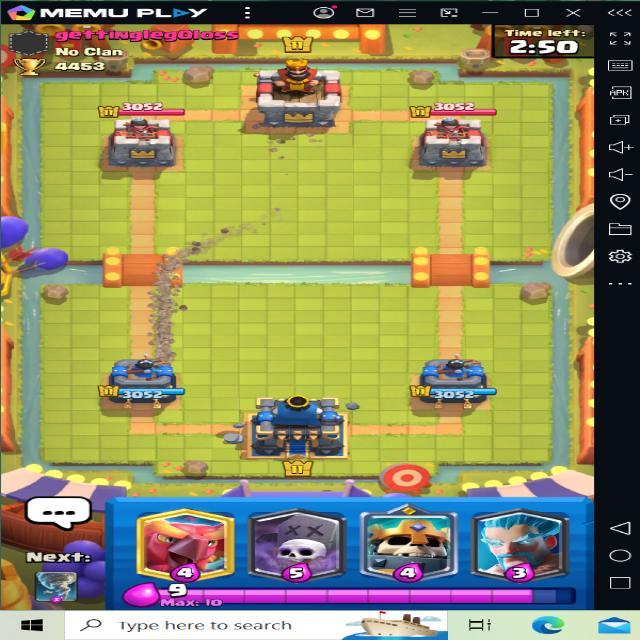trail: (137, 243, 182, 355)
